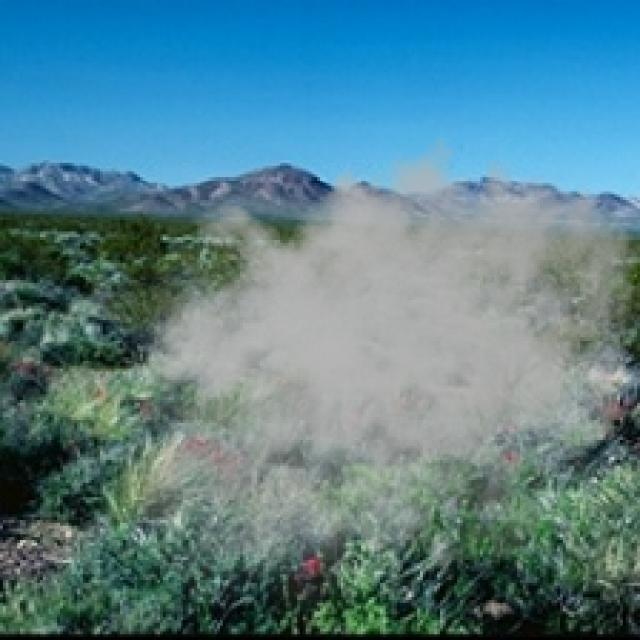Smoke: (102, 120, 638, 634)
